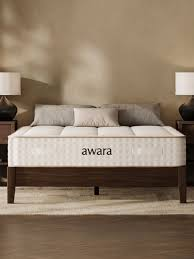bed-matress: (5, 114, 186, 169)
